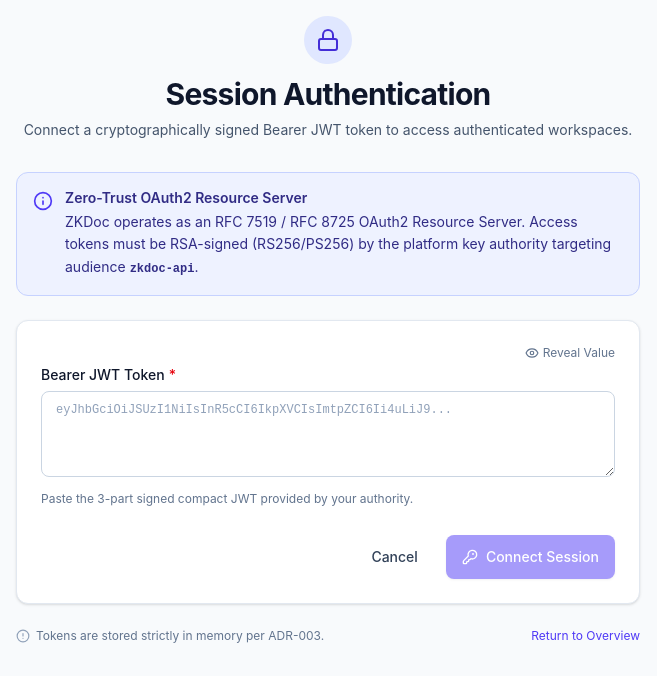
Test case: Authentication Components & Route Protection › LoginPage Component › displays validation error for malformed token structure
Type "not-a-valid-jwt" into the text box labelled "Bearer JWT Token*" at (328, 434), box [41, 391, 615, 477]
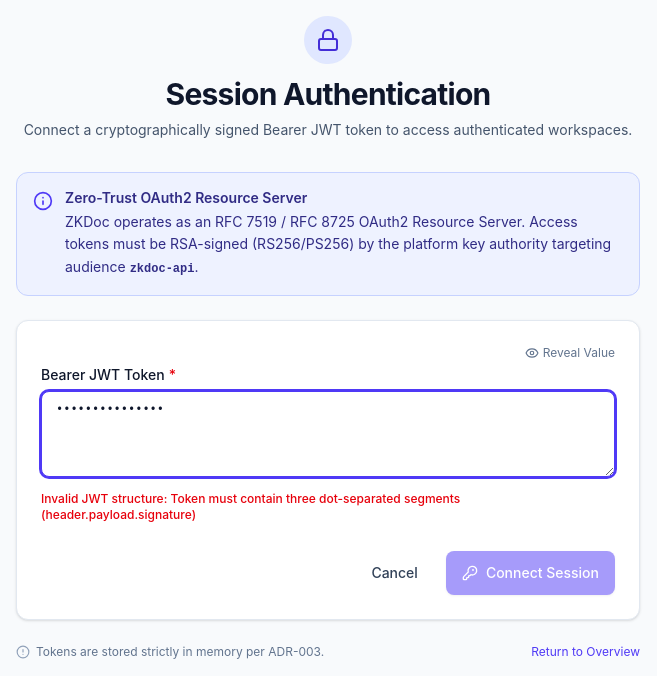
Check: the button "Connect Session" is disabled, box [446, 551, 615, 595]
Check: the text "Token must contain three dot-separated segments" is shown, box [41, 491, 460, 522]
